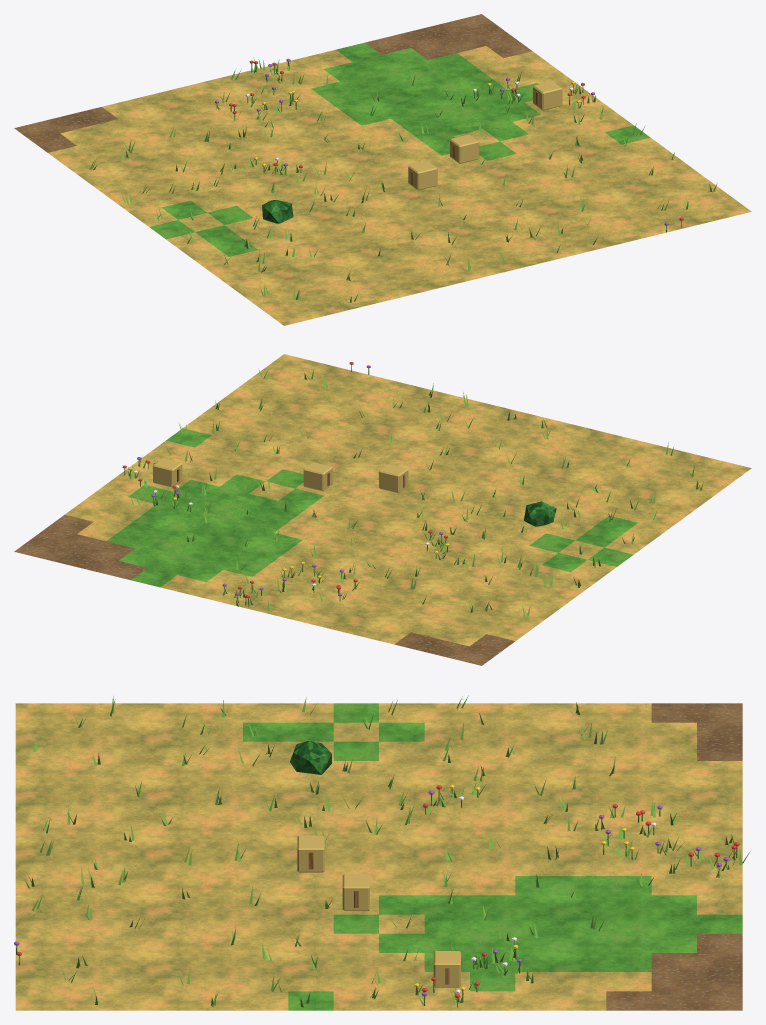
The model's file is chunk_9_11.glb.
The picture shows the model from 3 angles, top to bottom: view 1: azimuth 30°, elevation 25°; view 2: azimuth 150°, elevation 25°; view 3: azimuth 270°, elevation 25°; orthographic projection. The views are drawn at different scales.
Visible parts, largest first — view 1: chunk_9_11; view 2: chunk_9_11; view 3: chunk_9_11.
Boxes of the visible parts, x1,y1,x2,y2 form: chunk_9_11: (14,14,751,325); chunk_9_11: (14,354,751,665); chunk_9_11: (14,695,750,1010).
Bounding box in the file's own units: 16 × 0.7881 × 16.25.
12 materials, 6 textured.
